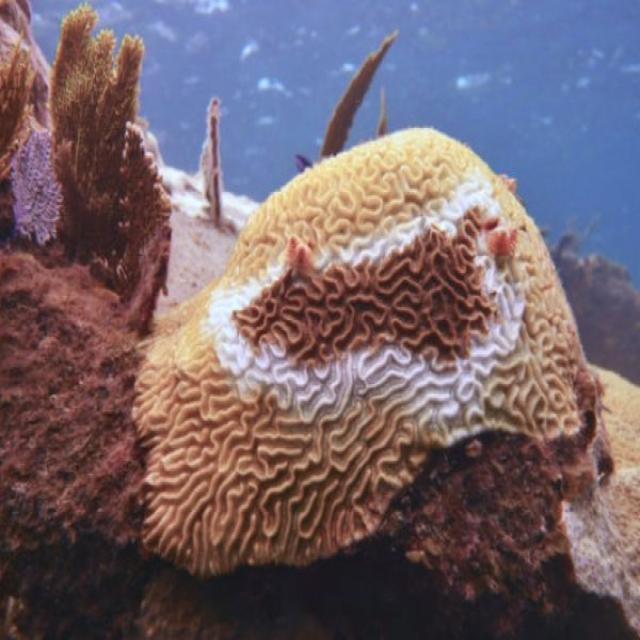Coral: (132, 126, 588, 576), (49, 0, 144, 297), (116, 121, 173, 340), (9, 128, 64, 245), (0, 29, 35, 185)
